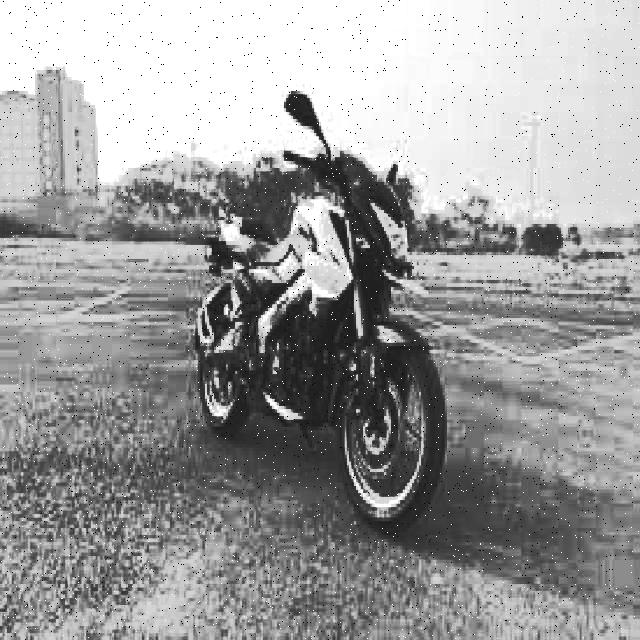Bike: (189, 122, 461, 535)
